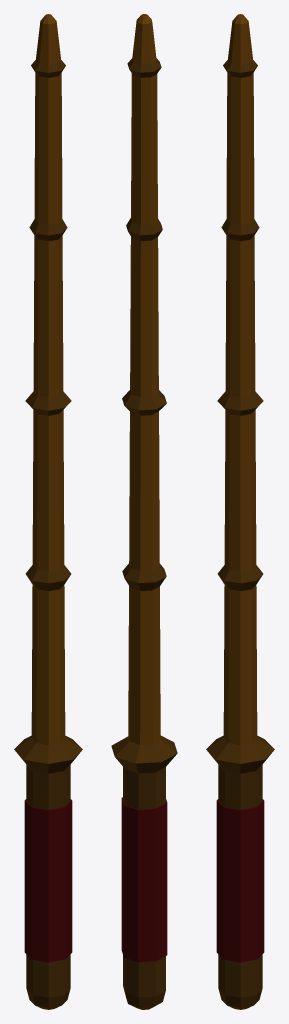
File: Wand.fbx
3 views of the same model, side by side, from view 1: azimuth 90°, elevation 25°; view 2: azimuth 210°, elevation 25°; view 3: azimuth 270°, elevation 25° (orthographic).
Parts seen in each view (by area): view 1: Wand_1, Wand_5, Wand_2; view 2: Wand_1, Wand_4, Wand_2, Wand_5; view 3: Wand_1, Wand_4, Wand_2.
Part boxes in pixels (bbox=[...]): Wand_1: bbox=[14, 14, 82, 1009]; Wand_5: bbox=[24, 801, 72, 962]; Wand_2: bbox=[25, 60, 71, 810]; Wand_1: bbox=[111, 14, 177, 1009]; Wand_4: bbox=[121, 799, 165, 961]; Wand_2: bbox=[122, 58, 166, 809]; Wand_5: bbox=[156, 803, 167, 960]; Wand_1: bbox=[206, 14, 274, 1009]; Wand_4: bbox=[216, 801, 264, 958]; Wand_2: bbox=[217, 60, 263, 809].
Size of the model in its own units: 2.82 by 44.91 by 2.82.
